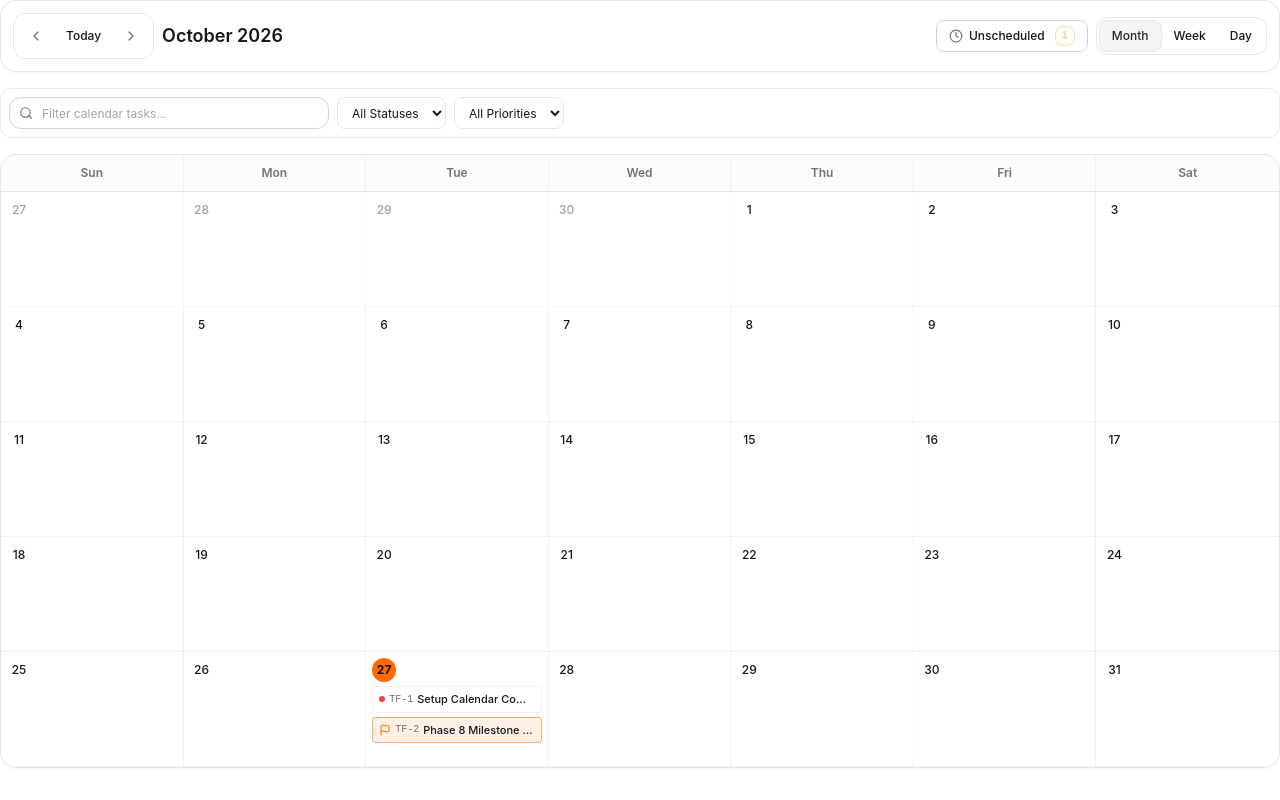
Test: CalendarView Component › filters tasks by search query
The image size is (1280, 800).
Type "Milestone" into the field with placeholder "Filter calendar tasks..." at (169, 113), box [9,97,329,129]
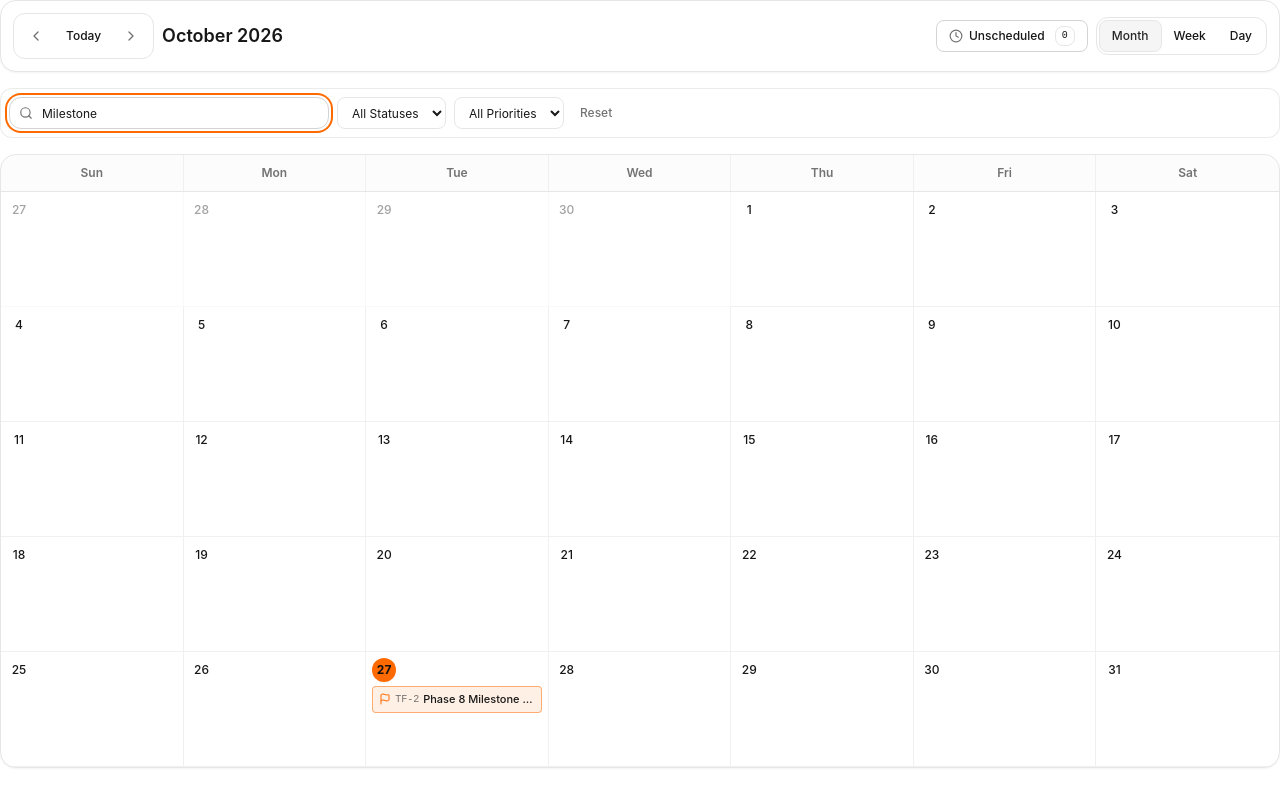
Expected: the text "Phase 8 Milestone Signoff" is shown, [423,691,535,708]
Expected: the text "Setup Calendar Component" is gone
